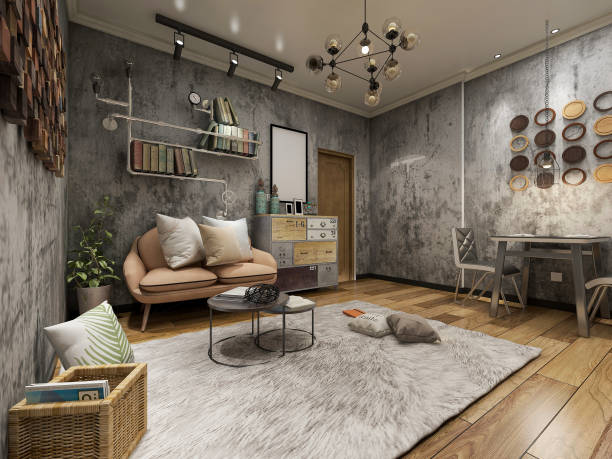dining table set: (450, 224, 612, 342)
large plant: (66, 193, 118, 309)
sofa: (122, 211, 281, 335)
table: (205, 286, 317, 366)
wall art: (266, 121, 310, 204)
